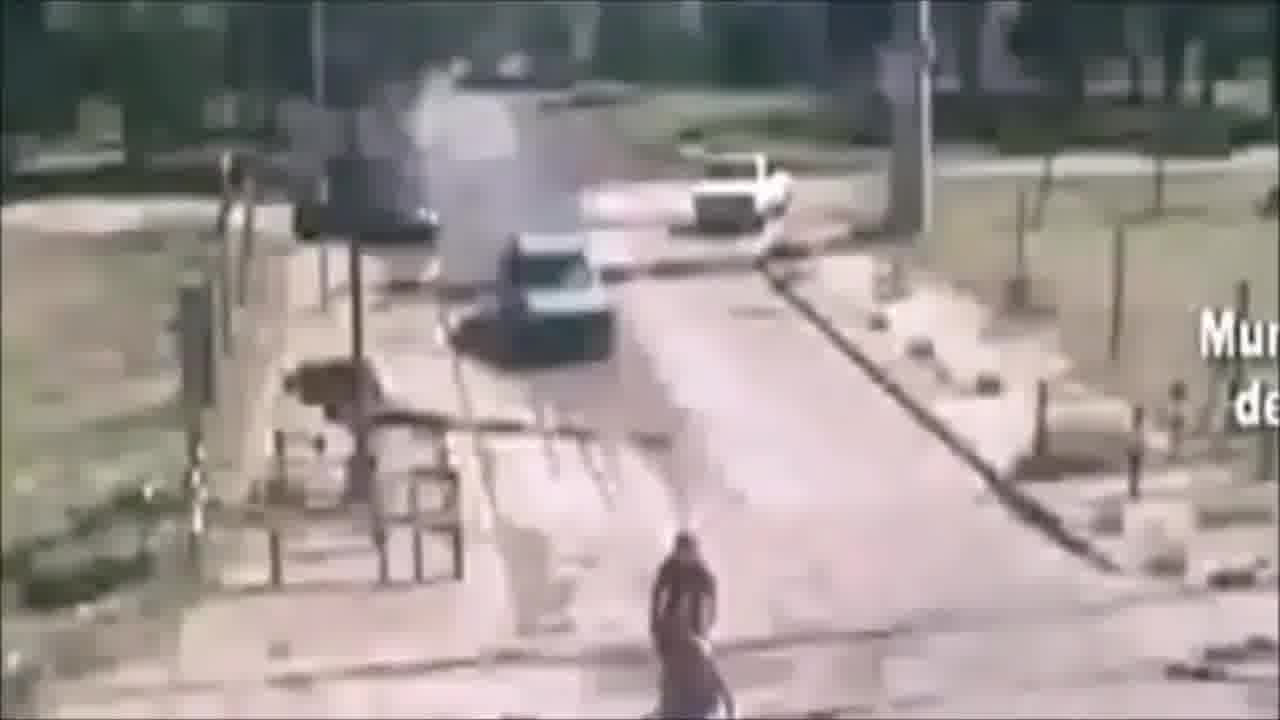crossing railway track: (584, 525, 796, 720)
